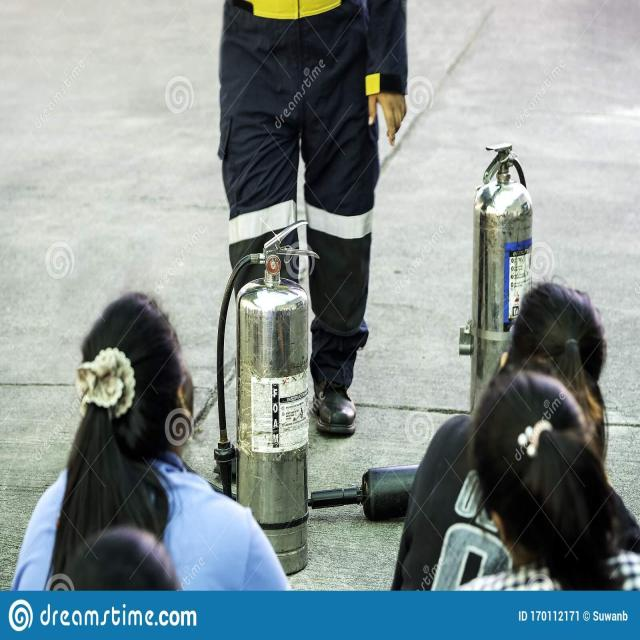fire_extinguisher: (206, 209, 468, 589), (456, 128, 541, 528)
